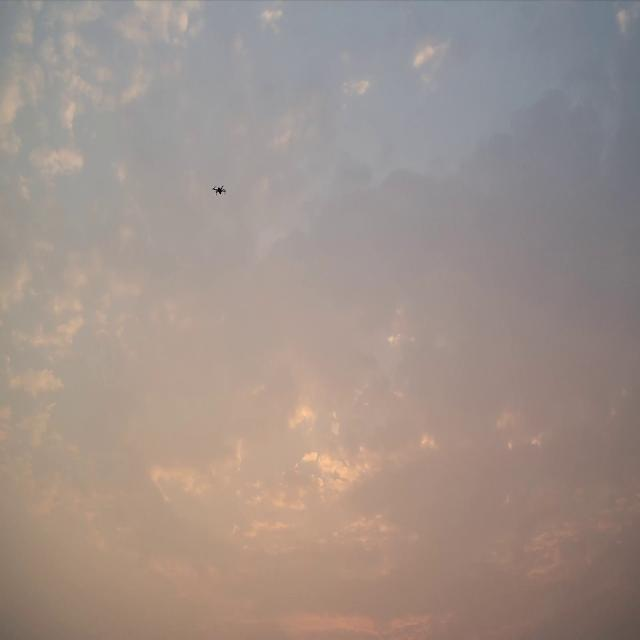drone: (212, 184, 227, 196)
